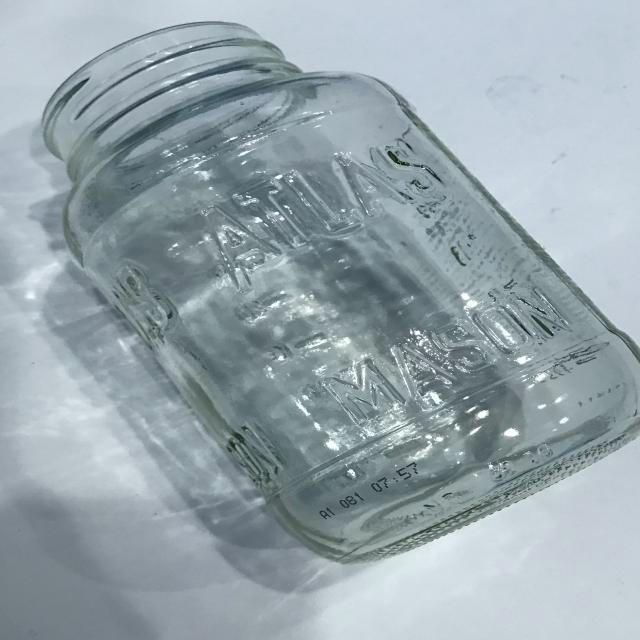glass: (24, 16, 640, 586)
